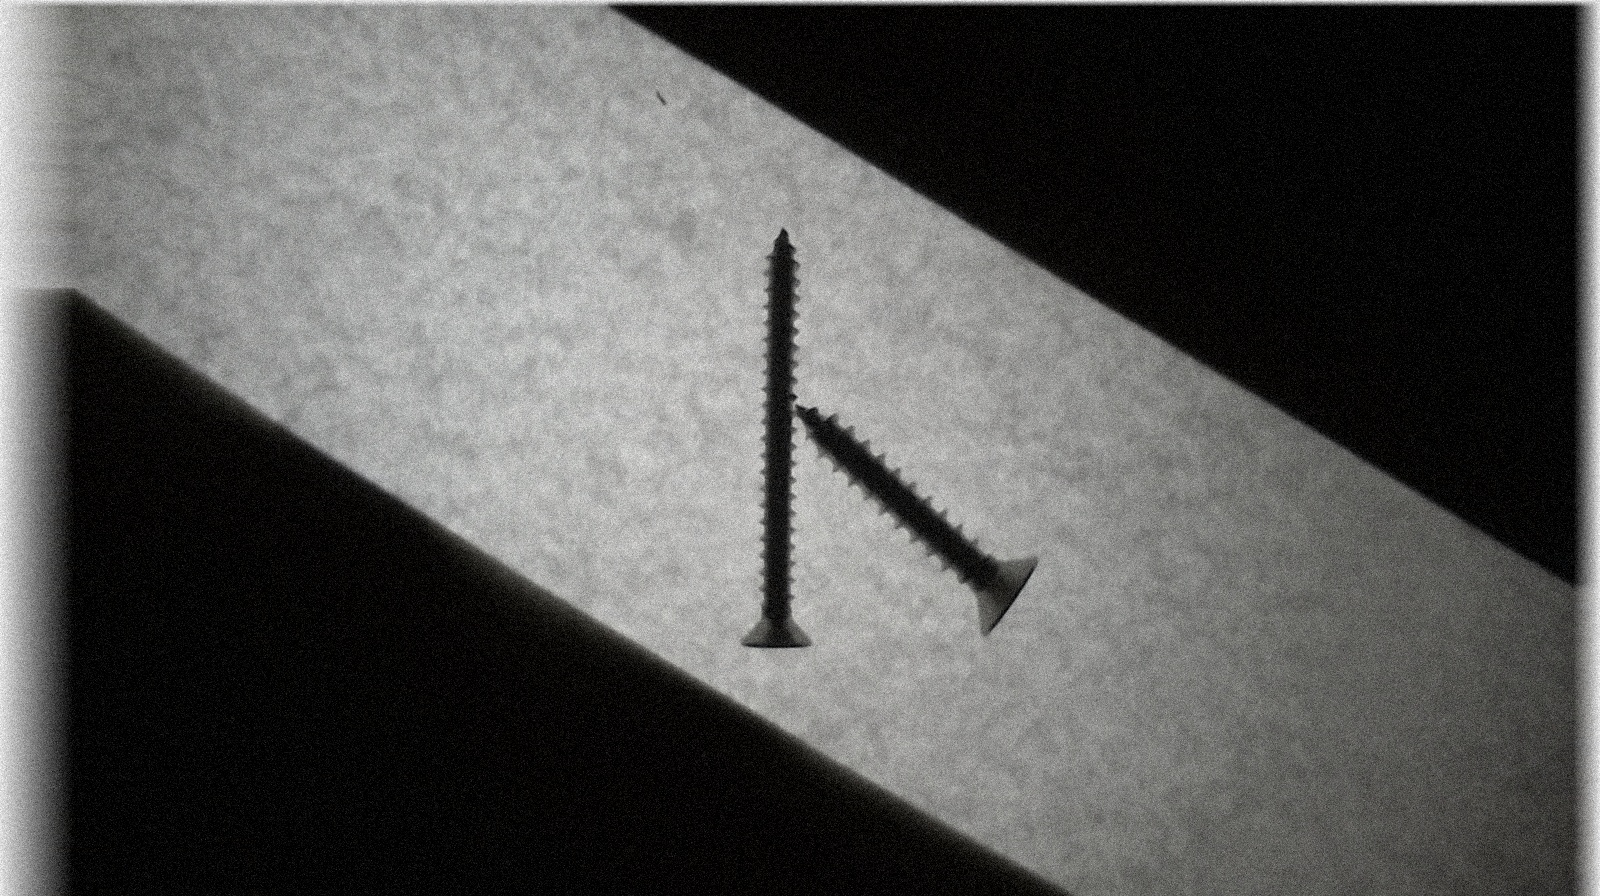S001: (801, 388, 1045, 649)
S002: (736, 218, 820, 666)
